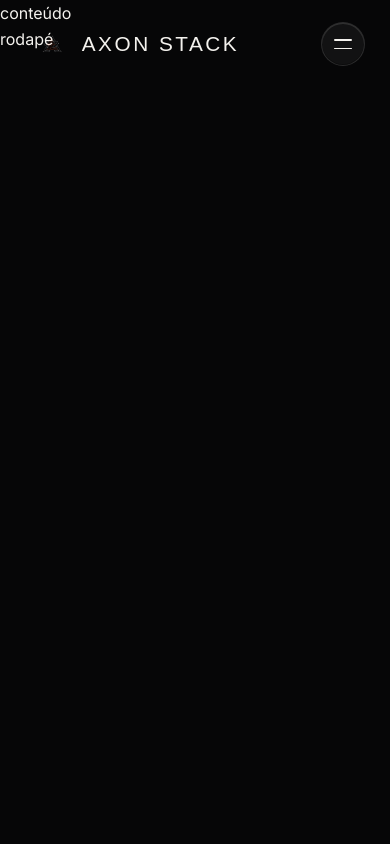
it: Navbar — menu mobile › fecha ao clicar em um link
Click the button named "menu" at (344, 44), box [322,22,366,66]
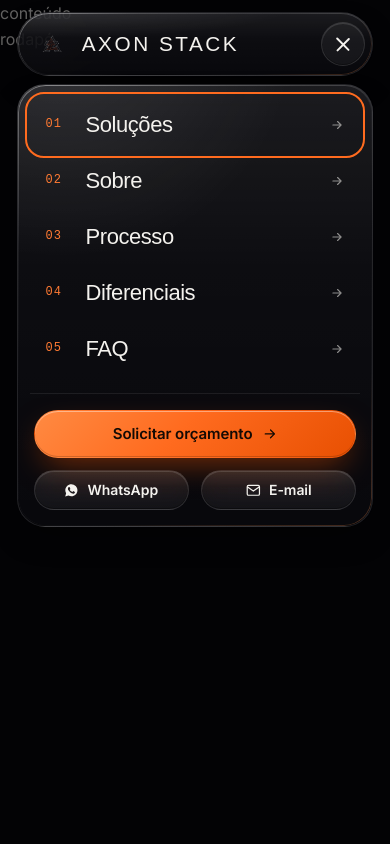
Click the link "03 Processo" at (130, 236), box [46,224,344,249]
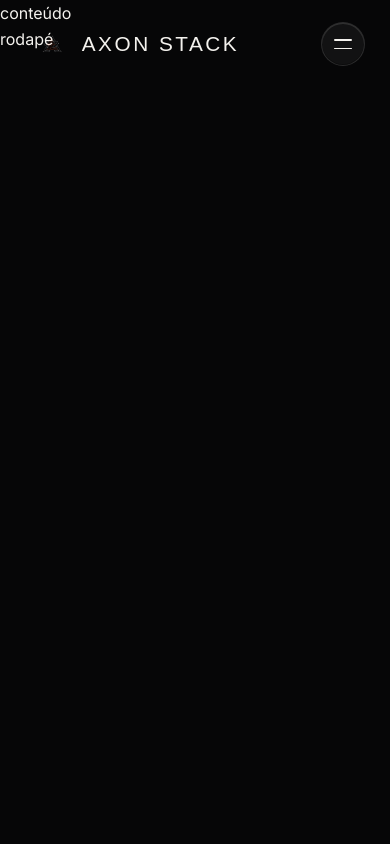
Expected: the button named "menu" is collapsed, [322,22,366,66]
